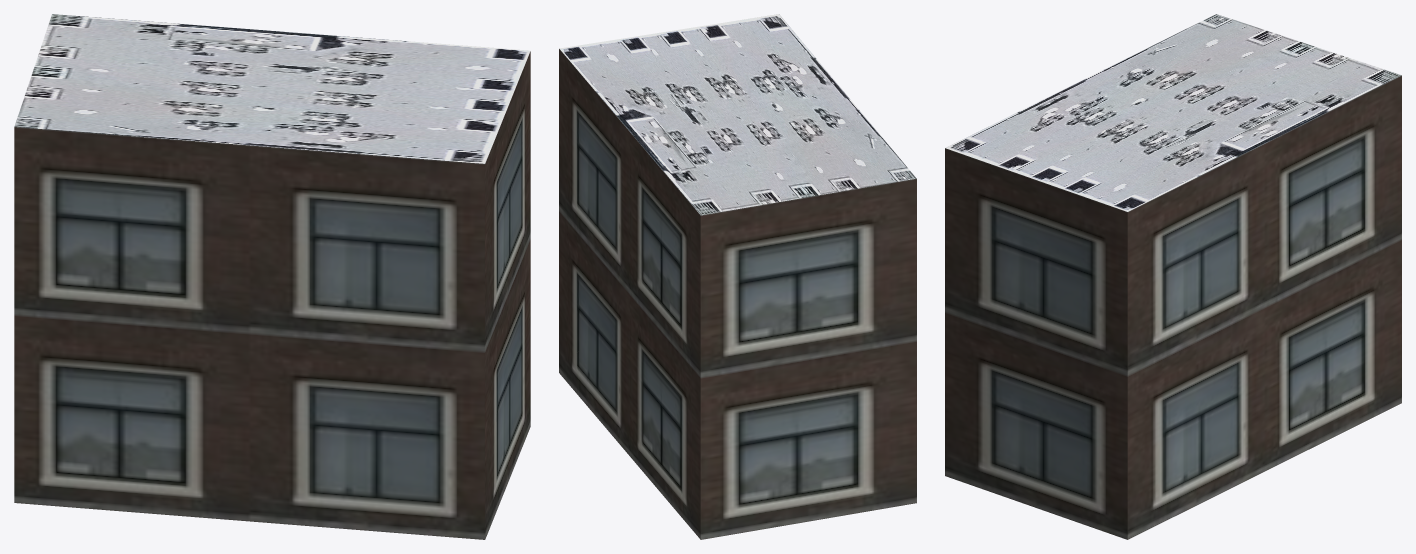
The model's file is ResTex__1615.fbx.
3 views of the same model, side by side, from view 1: azimuth 30°, elevation 25°; view 2: azimuth 150°, elevation 25°; view 3: azimuth 270°, elevation 25° (orthographic). The views are drawn at different scales.
Visible parts, largest first — view 1: CityEngineMaterial_16_m, CityEngineMaterial_15_m; view 2: CityEngineMaterial_16_m, CityEngineMaterial_15_m; view 3: CityEngineMaterial_16_m, CityEngineMaterial_15_m.
Boxes of the visible parts, x1,y1,x2,y2 form: CityEngineMaterial_16_m: (14, 51, 530, 539); CityEngineMaterial_15_m: (14, 14, 530, 163); CityEngineMaterial_16_m: (559, 49, 916, 539); CityEngineMaterial_15_m: (559, 14, 916, 215); CityEngineMaterial_16_m: (945, 75, 1401, 539); CityEngineMaterial_15_m: (945, 14, 1401, 211).
Size of the model in its own units: 7.77 by 6 by 7.58.
Materials: 2 (2 with a texture image).
